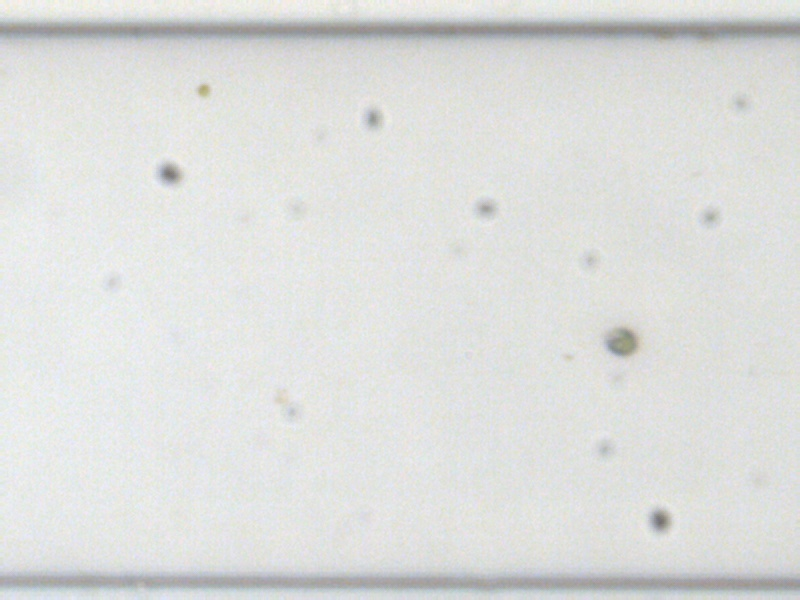Chlorella: (193, 80, 216, 100)
Dunaliella salina: (601, 327, 634, 356)
